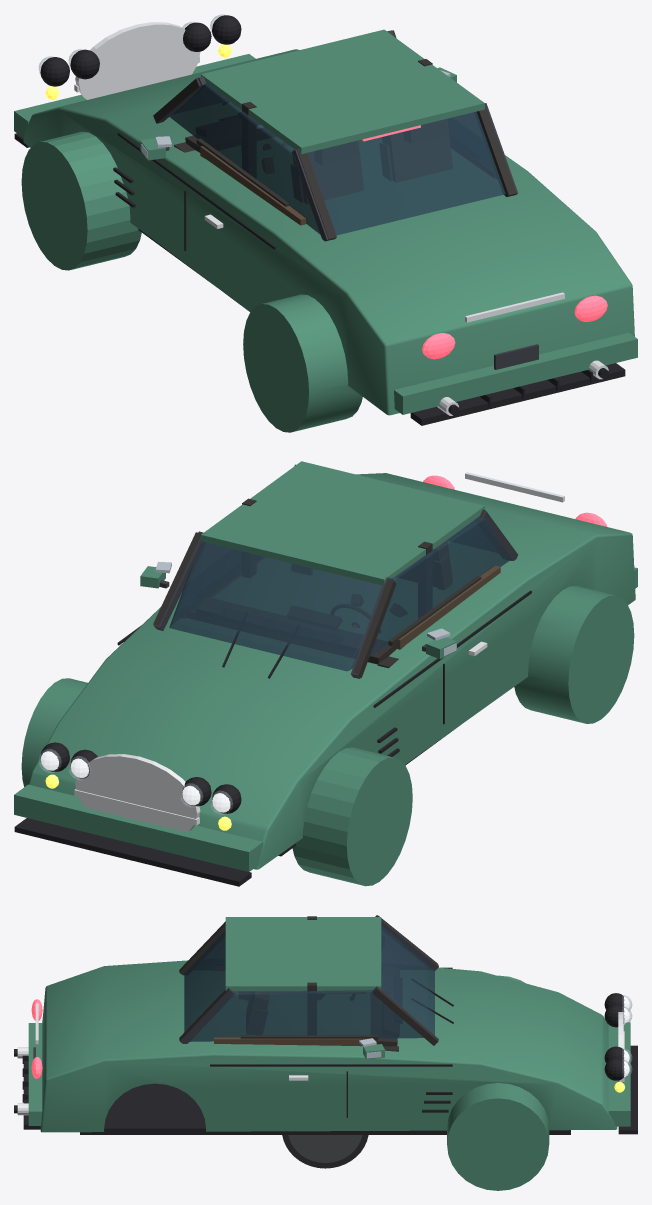
File: raiden.glb
3 views of the same model, one above another, from view 1: azimuth 30°, elevation 25°; view 2: azimuth 150°, elevation 25°; view 3: azimuth 270°, elevation 25° (orthographic). The views are drawn at different scales.
Parts seen in each view (by area): view 1: body_shell, cabin_glass, cabin_roof, rear_bumper, grille, rear_diffuser, seat_pass_back, seat_driver_back, front_bumper, pillar_c_R, door_card_L, pillar_b_L (+15 smaller); view 2: body_shell, cabin_glass, cabin_roof, front_bumper, grille, front_splitter, dash_cowl, dashboard, door_card_L, pillar_a_L, defroster, pillar_b_L (+7 smaller); view 3: body_shell, cabin_glass, cabin_roof, undertray, wheel_fl_sidewall, front_bumper, rear_bumper, door_card_R, front_splitter, beltline_R, wheel_fl_tire, pillar_a_R (+8 smaller).
Part boxes in pixels (<box>): body_shell: <box>21,49,634,432</box>; cabin_glass: <box>169,83,505,235</box>; cabin_roof: <box>201,29,484,154</box>; rear_bumper: <box>394,332,637,414</box>; grille: <box>75,22,200,99</box>; rear_diffuser: <box>410,363,625,425</box>; seat_pass_back: <box>382,119,452,181</box>; seat_driver_back: <box>292,143,363,203</box>; front_bumper: <box>14,54,255,137</box>; pillar_c_R: <box>475,103,516,196</box>; door_card_L: <box>200,146,306,225</box>; pillar_b_L: <box>242,102,256,177</box>; body_shell: <box>21,473,635,886</box>; cabin_glass: <box>169,517,511,671</box>; cabin_roof: <box>201,461,484,585</box>; front_bumper: <box>14,784,263,871</box>; grille: <box>75,754,200,832</box>; front_splitter: <box>14,818,251,886</box>; dash_cowl: <box>196,597,376,652</box>; dashboard: <box>186,609,396,664</box>; door_card_L: <box>396,565,500,649</box>; pillar_a_L: <box>353,579,396,677</box>; defroster: <box>220,608,343,644</box>; pillar_b_L: <box>418,541,432,618</box>; body_shell: <box>40,960,617,1190</box>; cabin_glass: <box>184,925,434,1041</box>; cabin_roof: <box>225,917,381,991</box>; undertray: <box>80,1083,570,1134</box>; wheel_fl_sidewall: <box>288,1135,362,1162</box>; front_bumper: <box>608,1022,630,1126</box>; rear_bumper: <box>28,1023,42,1125</box>; door_card_R: <box>214,1037,368,1046</box>; front_splitter: <box>618,1045,637,1134</box>; beltline_R: <box>210,1064,452,1066</box>; wheel_fl_tire: <box>282,1135,368,1168</box>; pillar_a_R: <box>373,988,437,1045</box>.
Size of the model in its own units: 2.39 by 1.92 by 5.13.
